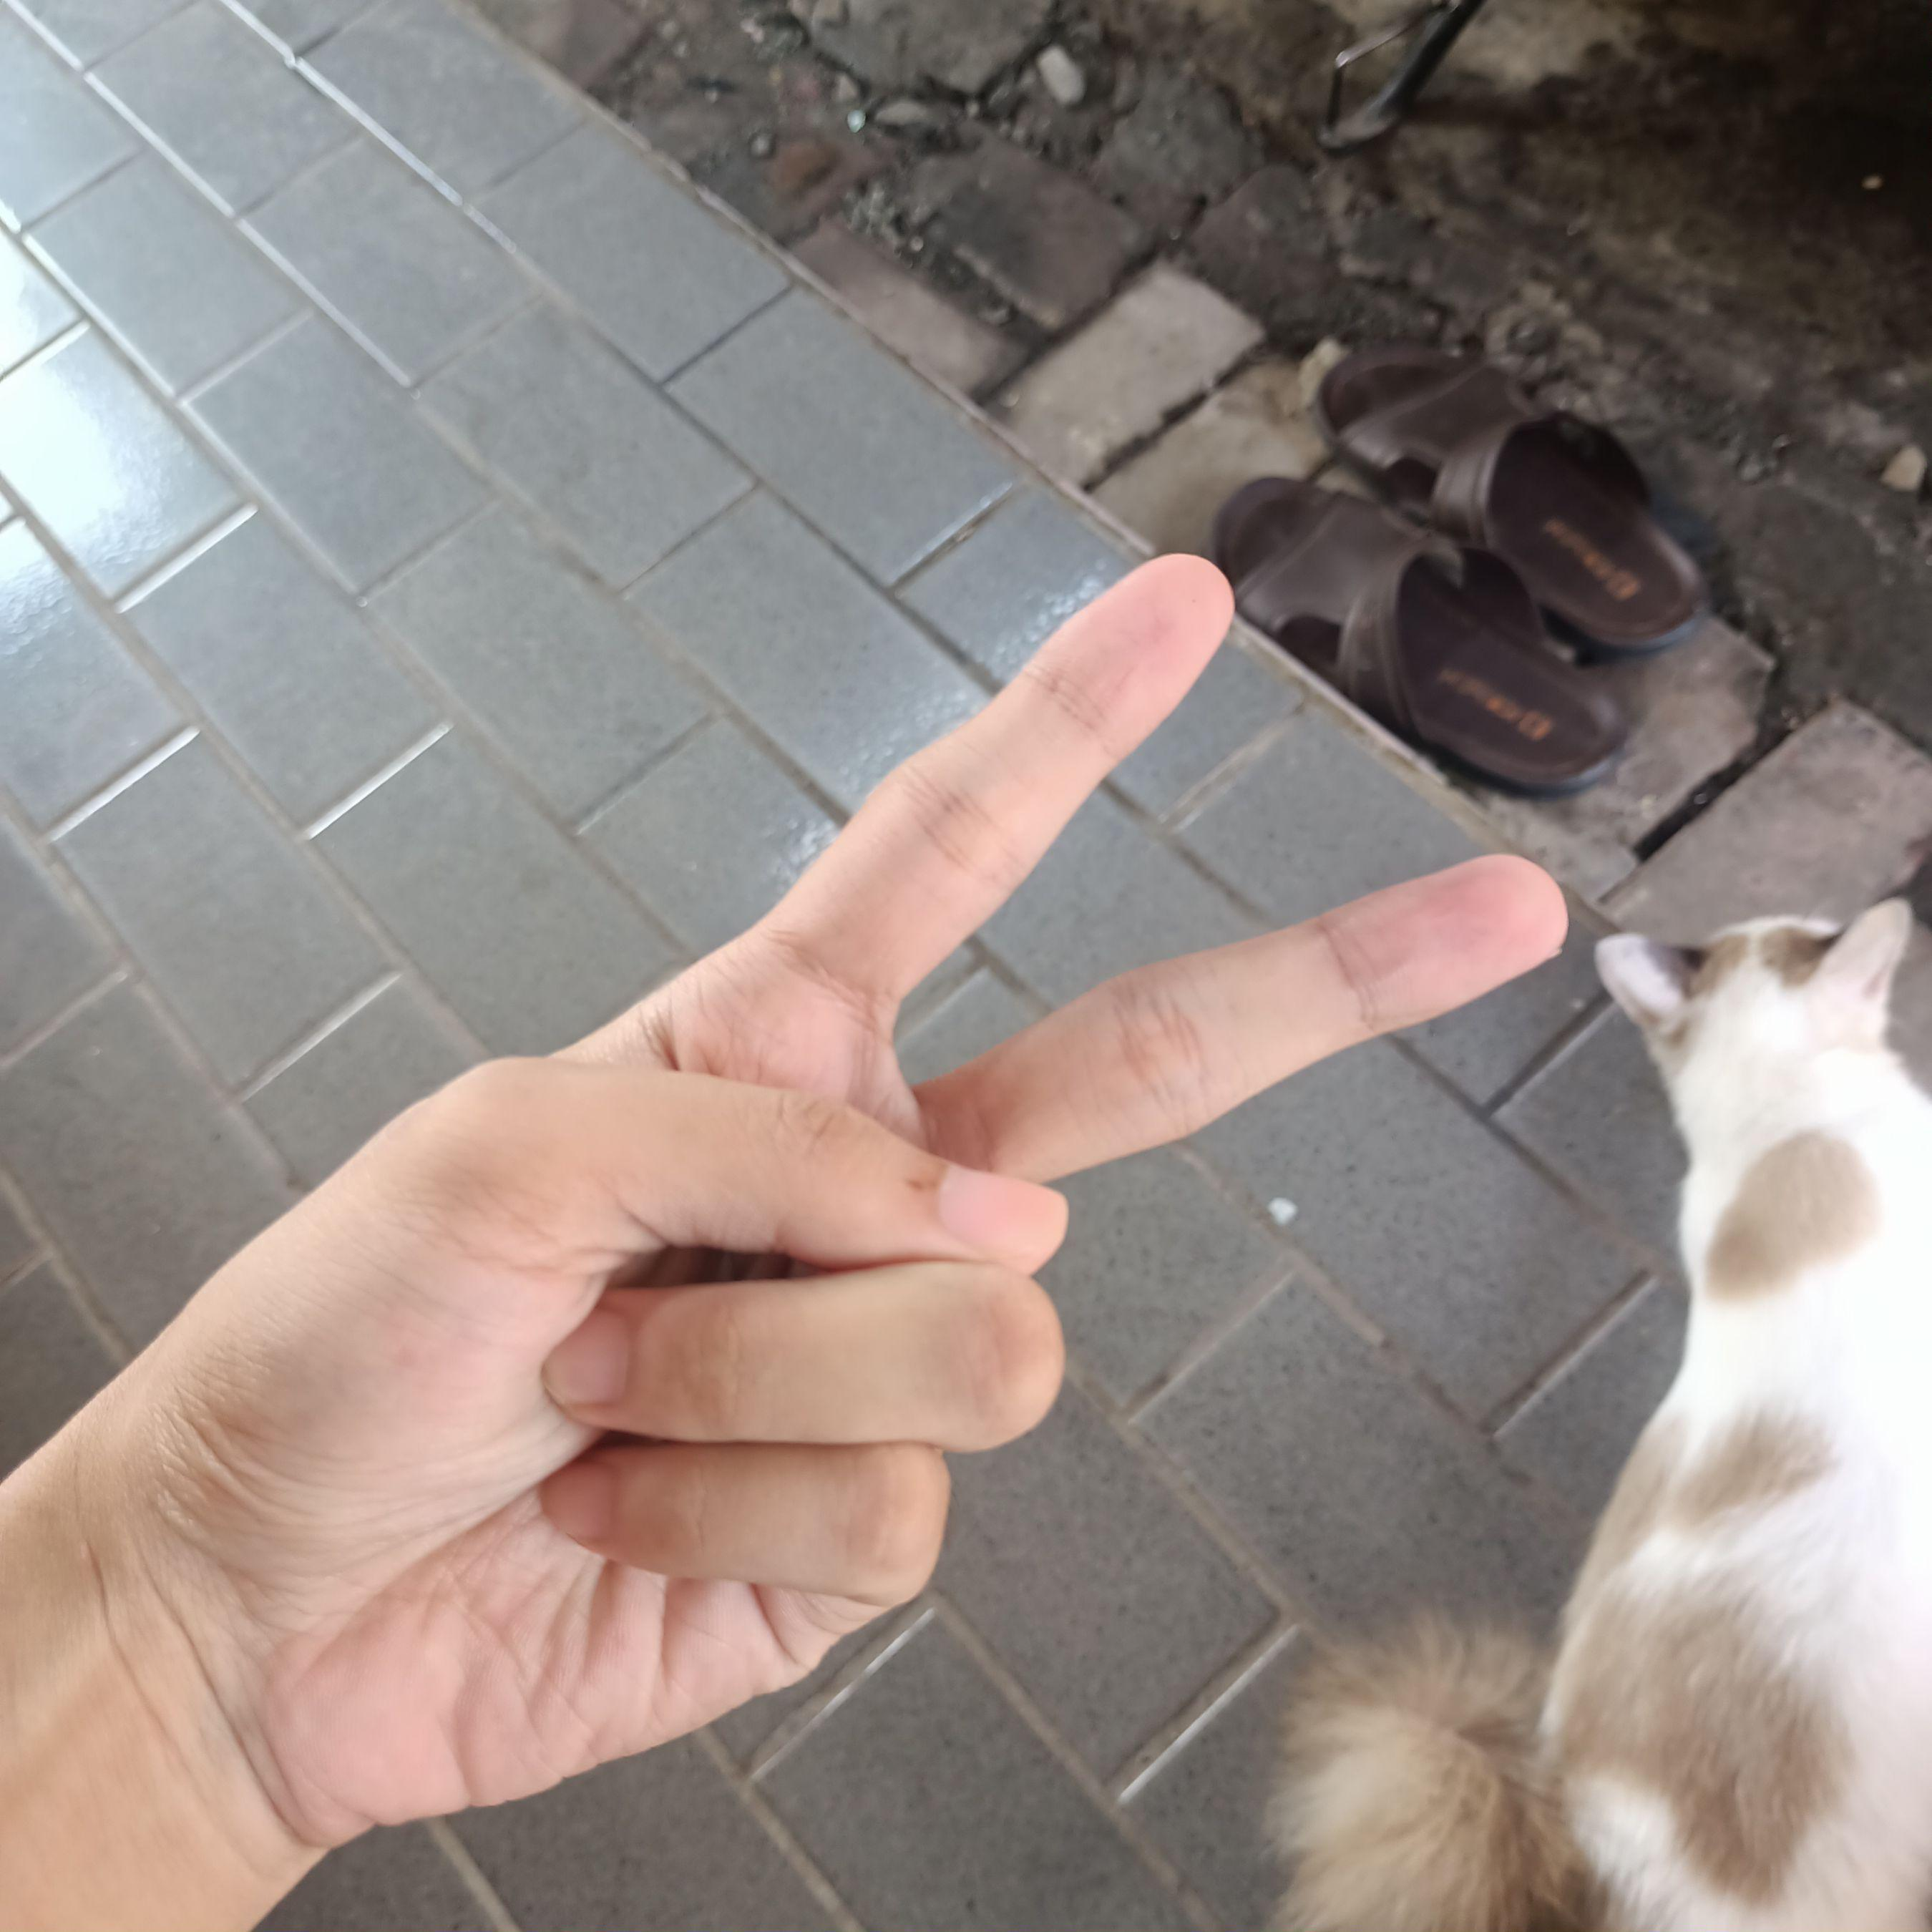scissors: (51, 533, 1566, 1886)
